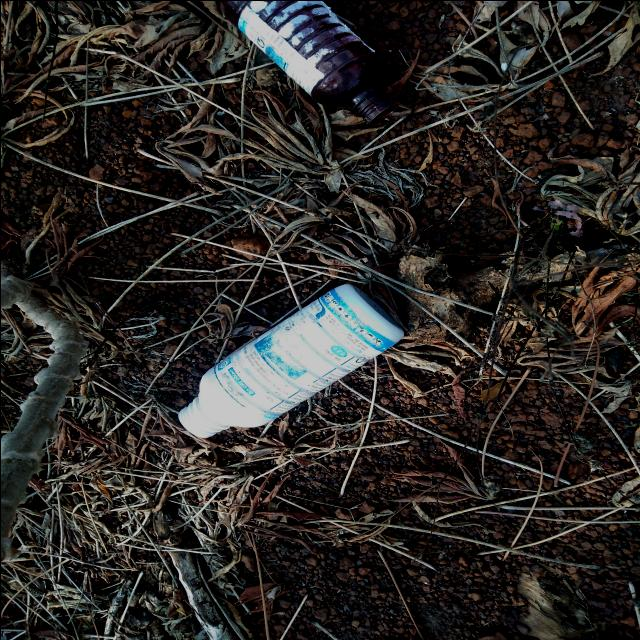Other plastic container: (177, 283, 403, 437), (222, 0, 398, 124)
